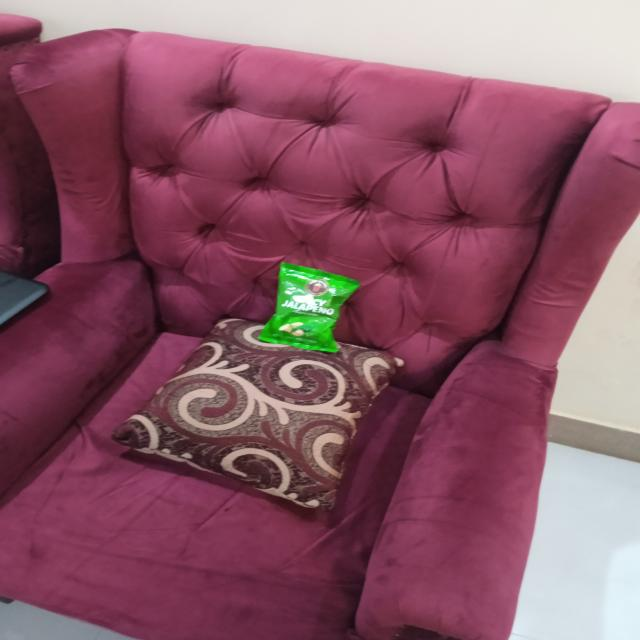Plastic: (260, 263, 364, 352)
